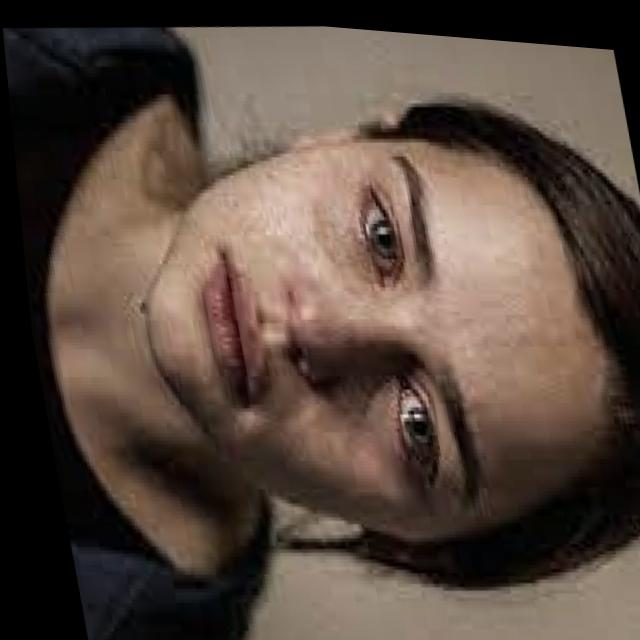natural: (100, 106, 504, 542)
